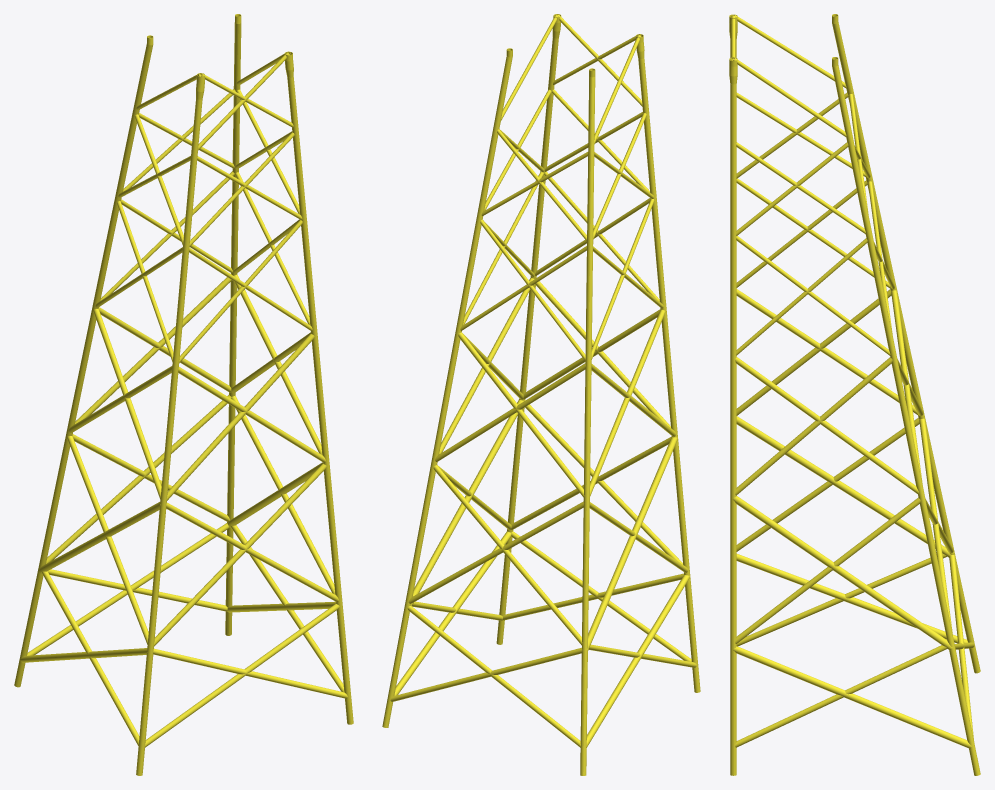
Rendered from Image-1709899250201-Jacket.fbx.
The picture shows the model from 3 angles, left to right: view 1: azimuth 30°, elevation 25°; view 2: azimuth 150°, elevation 25°; view 3: azimuth 270°, elevation 25°; orthographic projection. The views are drawn at different scales.
Visible parts, largest first — view 1: SCTN 6 of SBFRAMEWORK /EZDEHA-EZJF-LEG-A1, SCTN 5 of SBFRAMEWORK /EZDEHA-EZJF-LEG-A2, SCTN 2 of SBFRAMEWORK /EZDEHA-EZJF-LEG-B1, SCTN 2 of SBFRAMEWORK /EZDEHA-EZJF-LEG-B2, SCTN 3 of SBFRAMEWORK /BRACING-ROW-A, SCTN 1 of SBFRAMEWORK /BRACING-ROW-A, SCTN 7 of SBFRAMEWORK /BRACING-ROW-B, SCTN 4 of SBFRAMEWORK /BRACING-ROW-1, SCTN 9 of SBFRAMEWORK /BRACING-ROW-B, SCTN 5 of SBFRAMEWORK /BRACING-ROW-A, SCTN 2 of SBFRAMEWORK /BRACING-ROW-A, SCTN 4 of SBFRAMEWORK /BRACING-ROW-2 (+25 smaller); view 2: SCTN 2 of SBFRAMEWORK /EZDEHA-EZJF-LEG-B1, SCTN 2 of SBFRAMEWORK /EZDEHA-EZJF-LEG-B2, SCTN 6 of SBFRAMEWORK /EZDEHA-EZJF-LEG-A1, SCTN 5 of SBFRAMEWORK /EZDEHA-EZJF-LEG-A2, SCTN 3 of SBFRAMEWORK /BRACING-ROW-1, SCTN 3 of SBFRAMEWORK /BRACING-ROW-2, SCTN 1 of SBFRAMEWORK /BRACING-ROW-1, SCTN 7 of SBFRAMEWORK /BRACING-ROW-B, SCTN 9 of SBFRAMEWORK /BRACING-ROW-B, SCTN 1 of SBFRAMEWORK /BRACING-ROW-2, SCTN 10 of SBFRAMEWORK /BRACING-ROW-B, SCTN 5 of SBFRAMEWORK /BRACING-ROW-B (+22 smaller); view 3: SCTN 2 of SBFRAMEWORK /EZDEHA-EZJF-LEG-B2, SCTN 5 of SBFRAMEWORK /EZDEHA-EZJF-LEG-A2, SCTN 2 of SBFRAMEWORK /EZDEHA-EZJF-LEG-B1, SCTN 3 of SBFRAMEWORK /BRACING-ROW-2, SCTN 1 of SBFRAMEWORK /BRACING-ROW-2, SCTN 3 of SBFRAMEWORK /BRACING-ROW-1, SCTN 1 of SBFRAMEWORK /BRACING-ROW-1, SCTN 2 of SBFRAMEWORK /BRACING-ROW-2, SCTN 4 of SBFRAMEWORK /BRACING-ROW-2, SCTN 5 of SBFRAMEWORK /BRACING-ROW-2, SCTN 6 of SBFRAMEWORK /BRACING-ROW-2, SCTN 2 of SBFRAMEWORK /BRACING-ROW-1 (+17 smaller).
Boxes of the visible parts, box(x1,y1,x2,y2) form: SCTN 6 of SBFRAMEWORK /EZDEHA-EZJF-LEG-A1: box(136, 99, 202, 775); SCTN 5 of SBFRAMEWORK /EZDEHA-EZJF-LEG-A2: box(287, 77, 353, 724); SCTN 2 of SBFRAMEWORK /EZDEHA-EZJF-LEG-B1: box(14, 44, 152, 687); SCTN 2 of SBFRAMEWORK /EZDEHA-EZJF-LEG-B2: box(225, 22, 241, 635); SCTN 3 of SBFRAMEWORK /BRACING-ROW-A: box(153, 463, 326, 646); SCTN 1 of SBFRAMEWORK /BRACING-ROW-A: box(144, 604, 339, 747); SCTN 7 of SBFRAMEWORK /BRACING-ROW-B: box(46, 395, 231, 563); SCTN 4 of SBFRAMEWORK /BRACING-ROW-1: box(67, 436, 148, 644); SCTN 9 of SBFRAMEWORK /BRACING-ROW-B: box(27, 523, 229, 655); SCTN 5 of SBFRAMEWORK /BRACING-ROW-A: box(166, 333, 314, 500); SCTN 2 of SBFRAMEWORK /BRACING-ROW-A: box(153, 648, 347, 698); SCTN 4 of SBFRAMEWORK /BRACING-ROW-2: box(231, 395, 335, 594); SCTN 2 of SBFRAMEWORK /EZDEHA-EZJF-LEG-B1: box(580, 76, 595, 775); SCTN 2 of SBFRAMEWORK /EZDEHA-EZJF-LEG-B2: box(382, 56, 512, 727); SCTN 6 of SBFRAMEWORK /EZDEHA-EZJF-LEG-A1: box(638, 58, 700, 692); SCTN 5 of SBFRAMEWORK /EZDEHA-EZJF-LEG-A2: box(496, 37, 558, 644); SCTN 3 of SBFRAMEWORK /BRACING-ROW-1: box(587, 437, 677, 650); SCTN 3 of SBFRAMEWORK /BRACING-ROW-2: box(411, 399, 523, 605); SCTN 1 of SBFRAMEWORK /BRACING-ROW-1: box(586, 575, 689, 747); SCTN 7 of SBFRAMEWORK /BRACING-ROW-B: box(433, 465, 582, 645); SCTN 9 of SBFRAMEWORK /BRACING-ROW-B: box(407, 606, 580, 747); SCTN 1 of SBFRAMEWORK /BRACING-ROW-2: box(394, 531, 511, 695); SCTN 10 of SBFRAMEWORK /BRACING-ROW-B: box(390, 647, 582, 701); SCTN 5 of SBFRAMEWORK /BRACING-ROW-B: box(458, 332, 584, 497); SCTN 2 of SBFRAMEWORK /EZDEHA-EZJF-LEG-B2: box(832, 65, 980, 775); SCTN 5 of SBFRAMEWORK /EZDEHA-EZJF-LEG-A2: box(730, 84, 736, 775); SCTN 2 of SBFRAMEWORK /EZDEHA-EZJF-LEG-B1: box(832, 22, 980, 673); SCTN 3 of SBFRAMEWORK /BRACING-ROW-2: box(733, 496, 952, 650); SCTN 1 of SBFRAMEWORK /BRACING-ROW-2: box(733, 646, 971, 748); SCTN 3 of SBFRAMEWORK /BRACING-ROW-1: box(736, 416, 950, 557); SCTN 1 of SBFRAMEWORK /BRACING-ROW-1: box(736, 554, 967, 643); SCTN 2 of SBFRAMEWORK /BRACING-ROW-2: box(735, 645, 947, 747); SCTN 4 of SBFRAMEWORK /BRACING-ROW-2: box(735, 497, 920, 643); SCTN 5 of SBFRAMEWORK /BRACING-ROW-2: box(735, 357, 919, 494); SCTN 6 of SBFRAMEWORK /BRACING-ROW-2: box(735, 357, 892, 495); SCTN 2 of SBFRAMEWORK /BRACING-ROW-1: box(736, 553, 947, 646).
Bounding box in the file's own units: 49.29 × 49.46 × 149.
